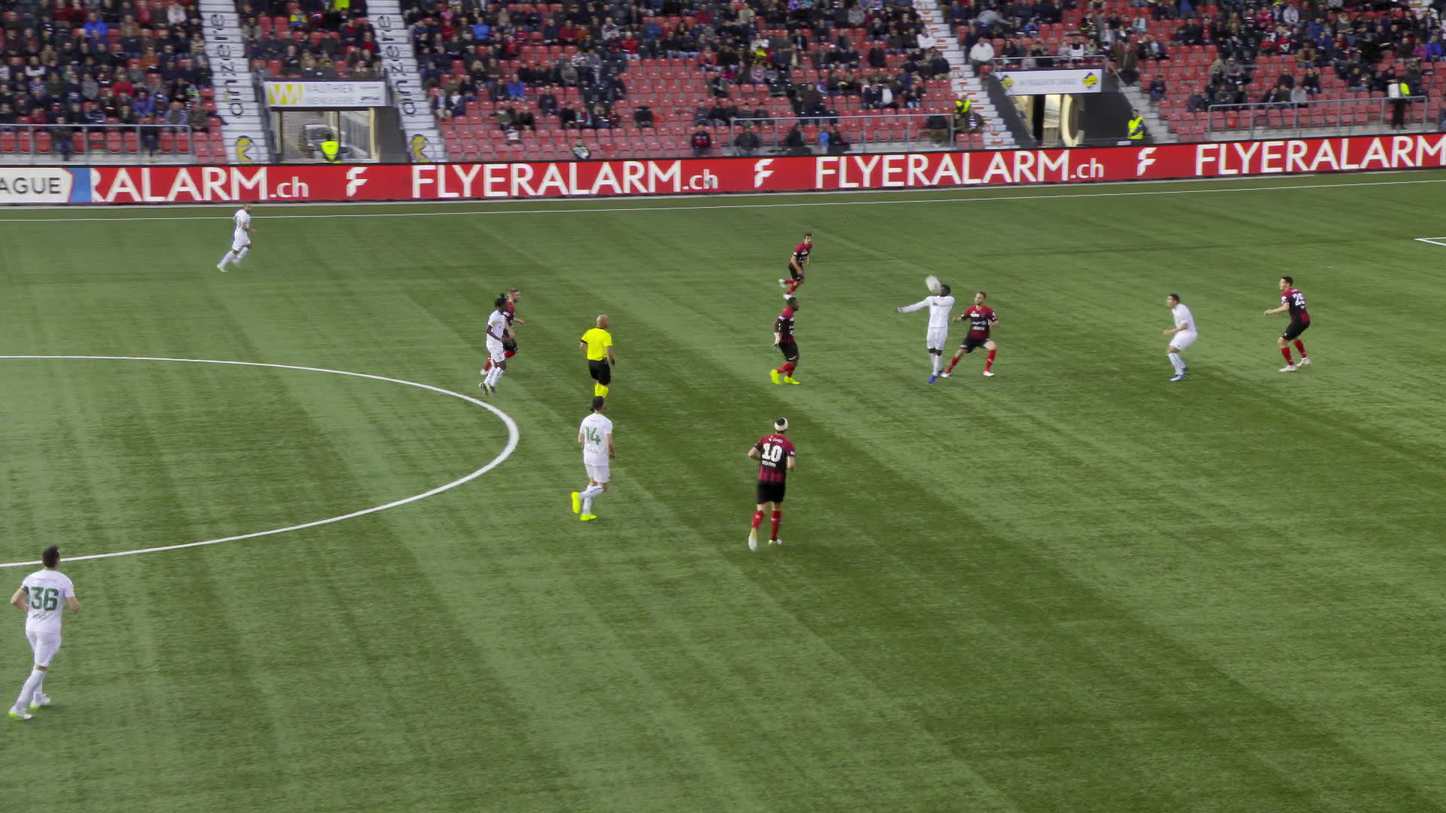ball: (926, 275, 939, 291)
player: (11, 550, 80, 719), (746, 417, 796, 559), (563, 394, 618, 520), (896, 286, 953, 384), (944, 289, 1000, 379), (1262, 275, 1312, 373), (762, 297, 810, 386), (477, 296, 511, 399), (1160, 295, 1200, 382), (770, 232, 816, 300), (483, 288, 522, 367), (220, 202, 255, 273)
referee: (579, 316, 617, 415)
